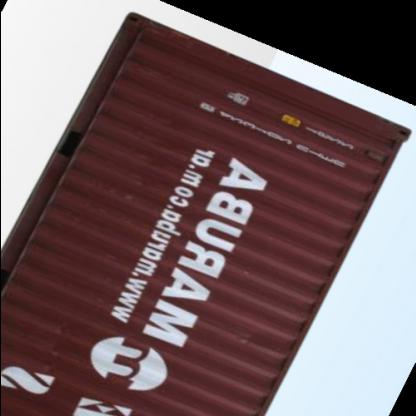Damage: (122, 119, 167, 204), (31, 316, 74, 382), (234, 331, 262, 355)
